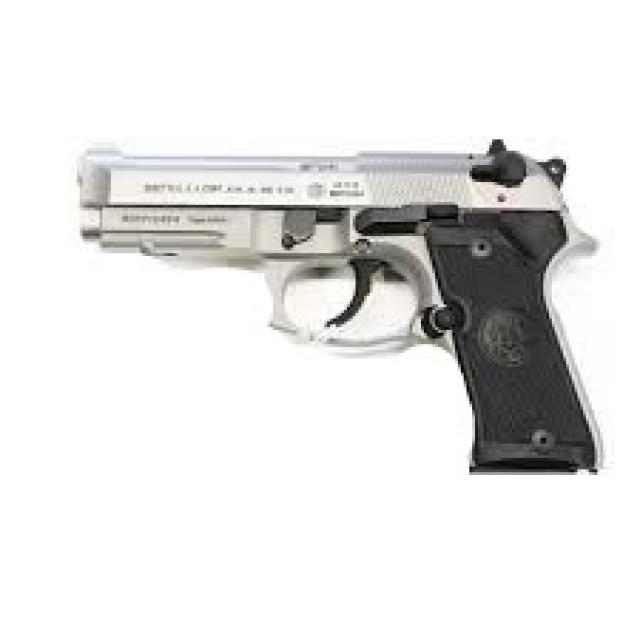pistol: (73, 127, 614, 493)
